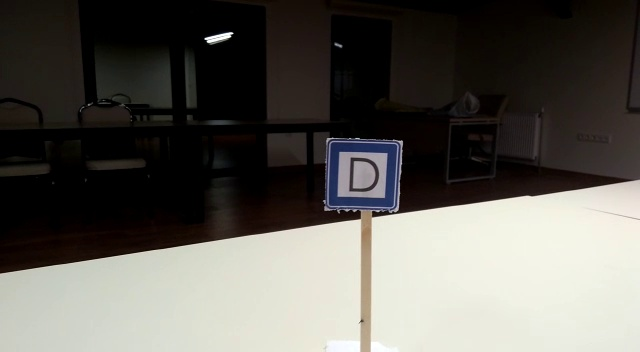durak: (324, 140, 401, 209)
